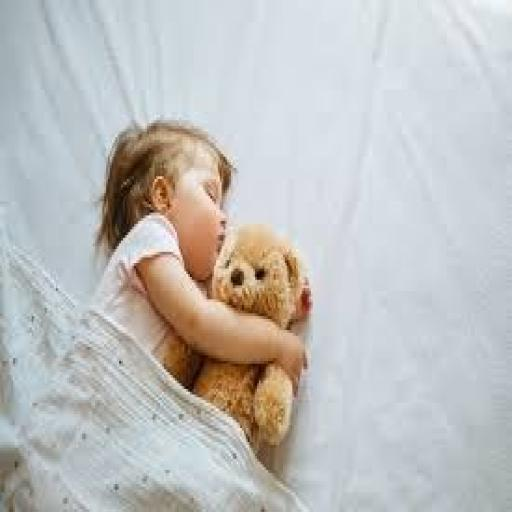baby: (92, 121, 307, 391)
